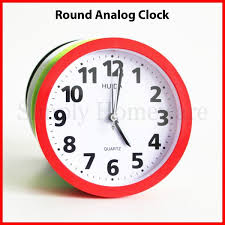alarm_clock: (28, 38, 199, 200), (28, 38, 193, 200), (32, 38, 193, 200), (32, 38, 193, 195), (32, 38, 192, 195)
